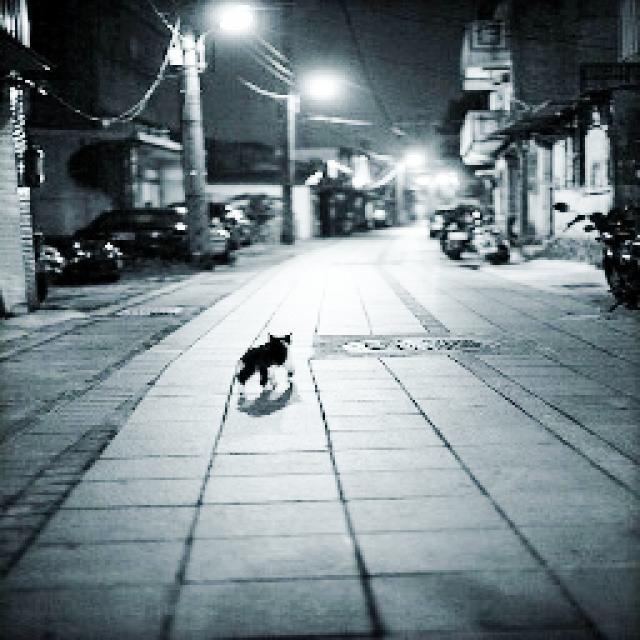cat: (206, 307, 327, 413)
